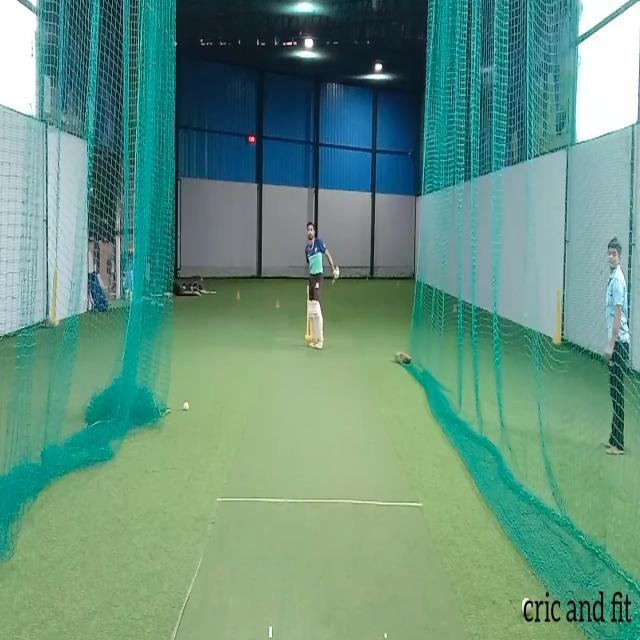batsman: (304, 220, 340, 352)
